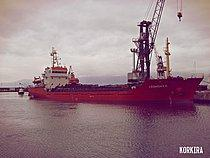Ship: (23, 15, 207, 109)
